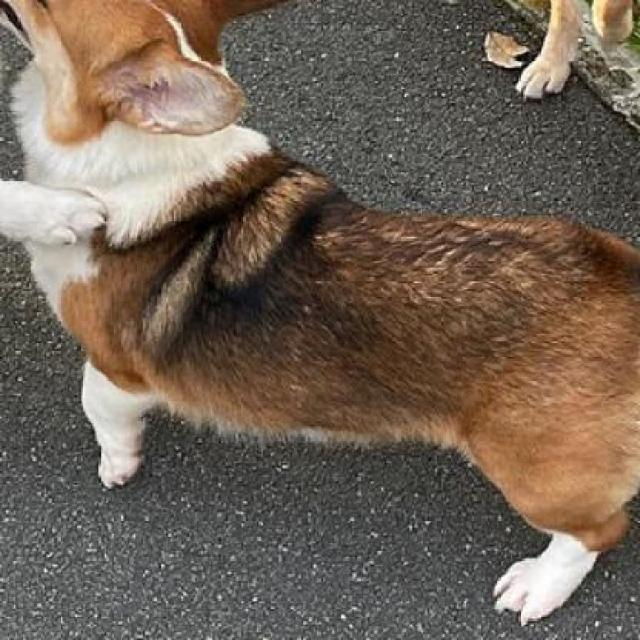Dog: (3, 0, 638, 638)
